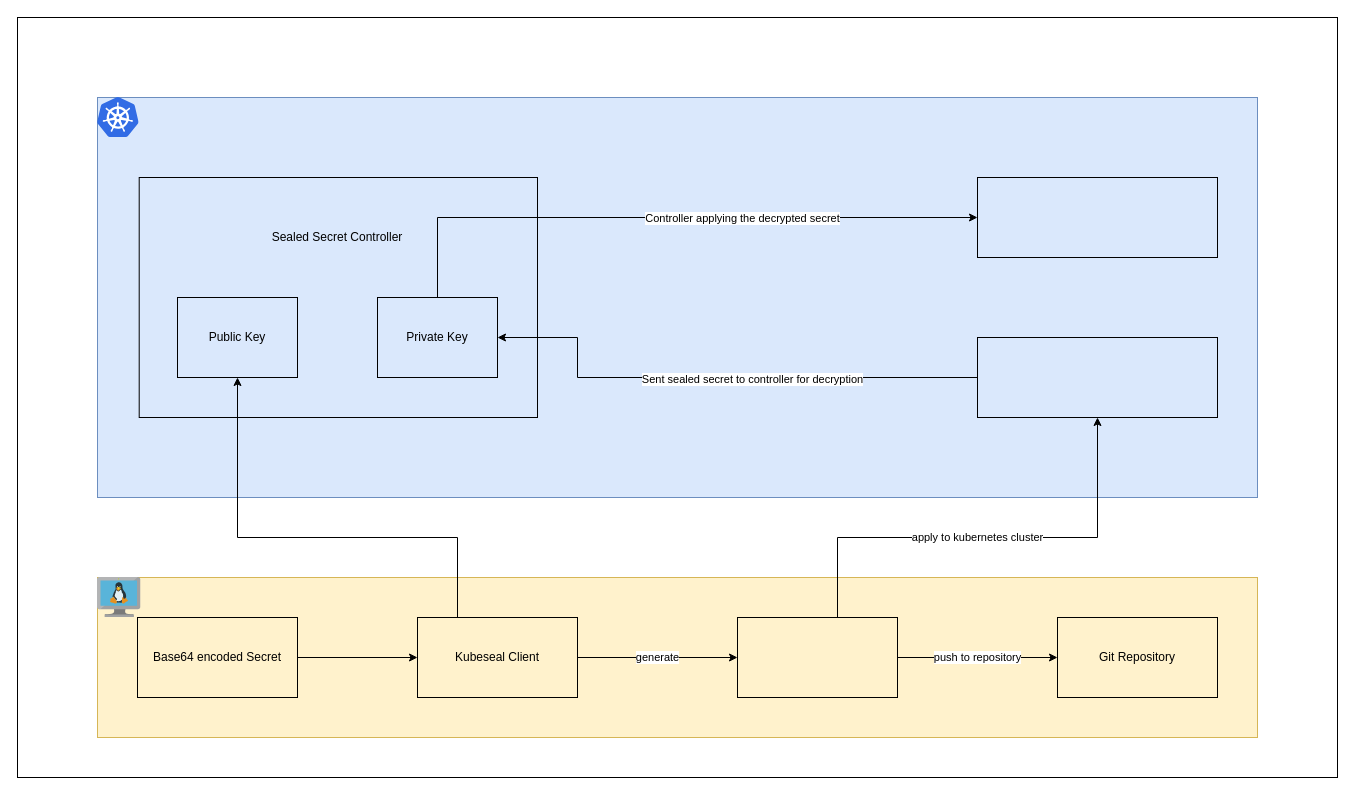
This 1355x795 diagram has some shape labels left out. The box of each missing label's shape, as (x1, y1, x2, y2) in pixels:
Sealed Secret: (976, 336, 1218, 418)
Sealed Secret encrypted with public key: (736, 616, 898, 698)
Secret (Base 64 Encoded): (976, 176, 1218, 258)
